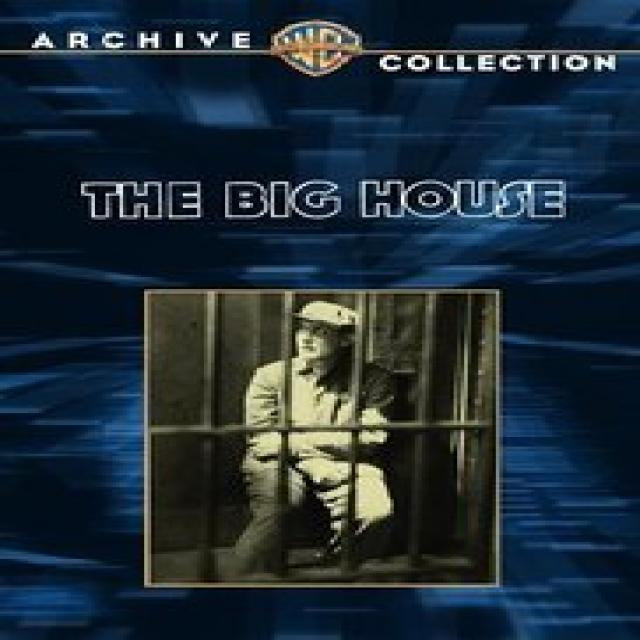movie-judul: (55, 158, 584, 248)
picture: (143, 291, 495, 584)
